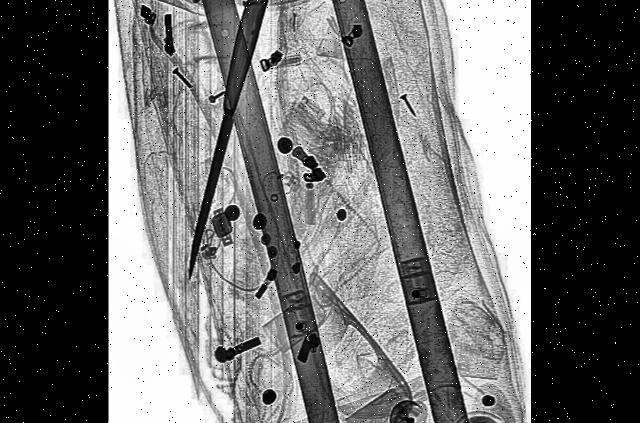Knife: (179, 0, 270, 282)
